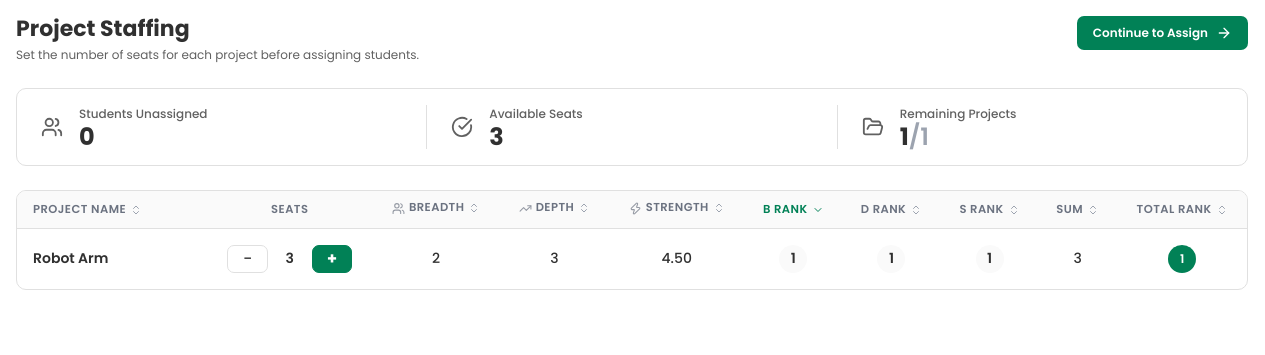
Scenario: Staffing › keeps the error from a failed "Add seat to Robot Arm" after the reload
Click the button named "Add seat to Robot Arm".
click(332, 259)  # box [312,245,352,273]
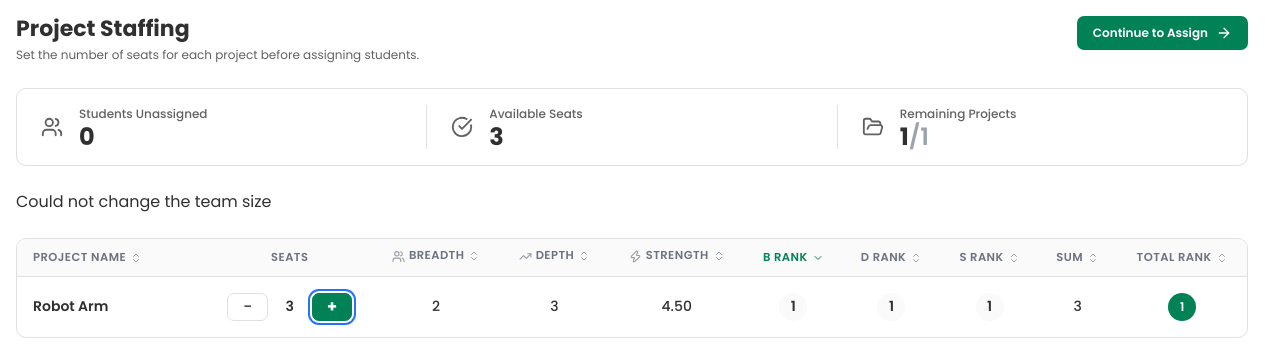
Expected: the cell named "Add seat to Robot Arm" shows "3", [286,296,294,316]
Now the text "Could not change the team size" is shown, box [16,190,272,213]
